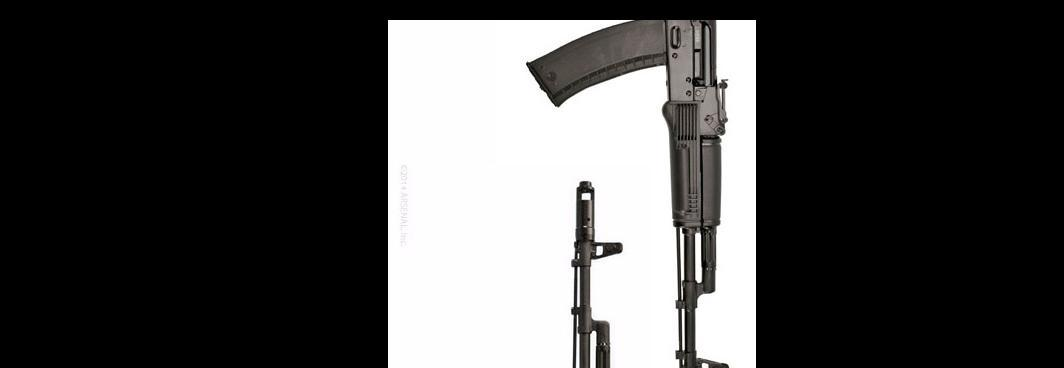larga: (526, 20, 730, 368), (568, 181, 625, 368)
